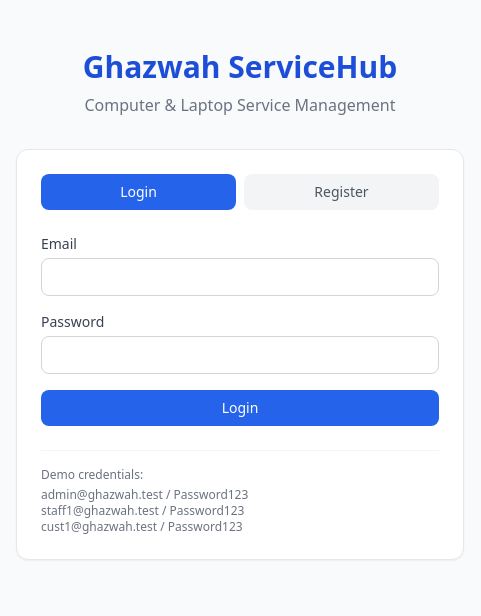
it: Login page › switches to register mode
This screenshot has width=481, height=616.
Click the button "Register". click: [342, 192]
box: x1=244 y1=174 x2=439 y2=210
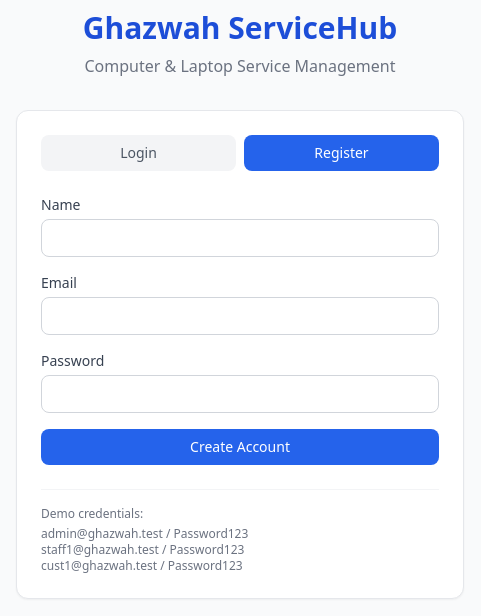
expect the field labelled "Name" is shown: met, box x1=41 y1=218 x2=439 y2=256
